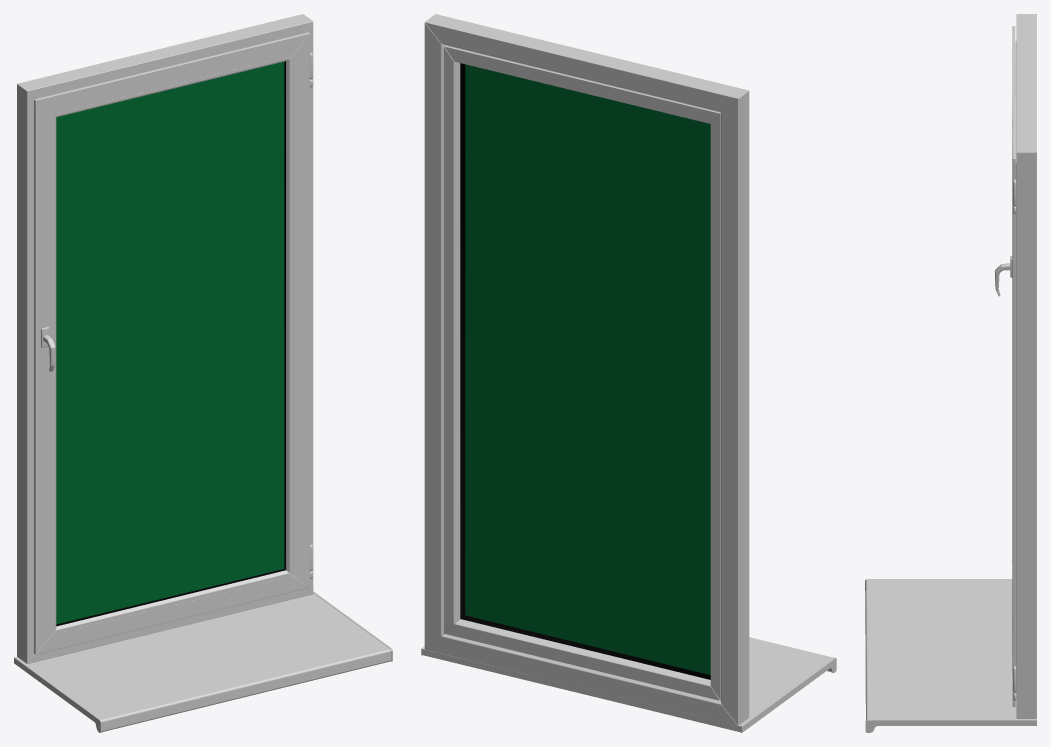
The model's file is wm_wind_1.FBX.
The picture shows the model from 3 angles, left to right: view 1: azimuth 30°, elevation 25°; view 2: azimuth 150°, elevation 25°; view 3: azimuth 270°, elevation 25°; orthographic projection. The views are drawn at different scales.
Visible parts, largest first — view 1: окно 2; view 2: окно 2; view 3: окно 2.
Boxes of the visible parts, box(x1,y1,x2,y2) form: окно 2: box(14, 14, 392, 732); окно 2: box(421, 14, 836, 732); окно 2: box(865, 14, 1036, 732).
Size of the model in its own units: 0.9679 by 1.85 by 0.4974.
